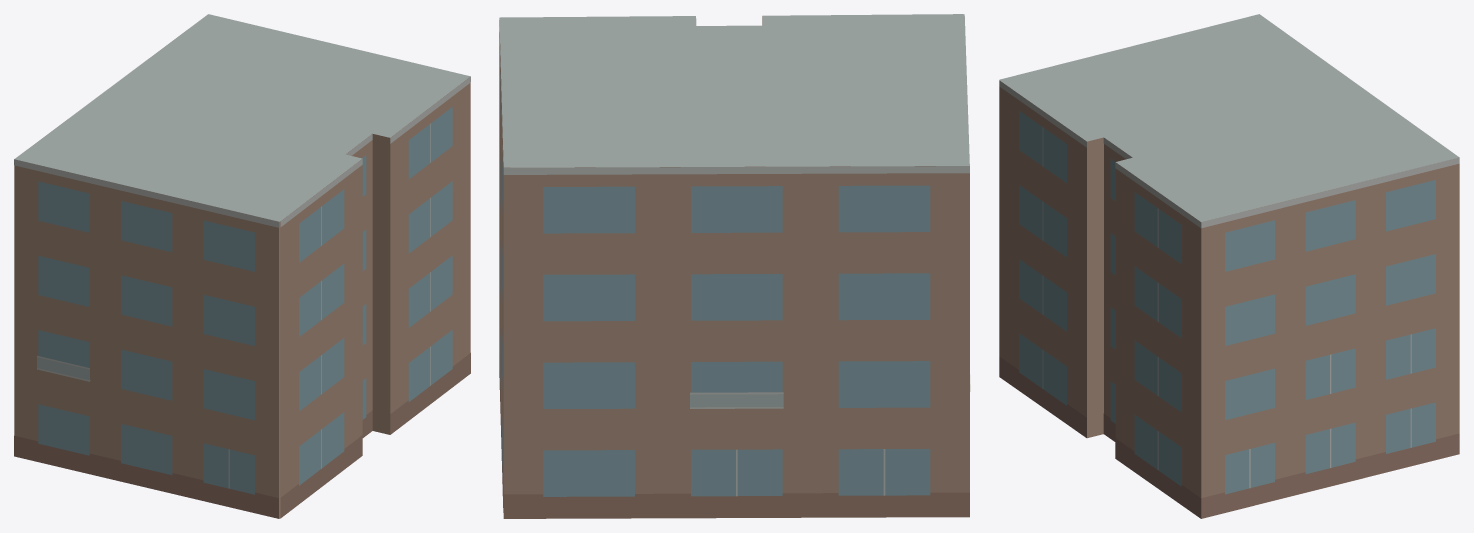
The model's file is survey-upis-32813281.glb.
3 views of the same model, side by side, from view 1: azimuth 30°, elevation 25°; view 2: azimuth 150°, elevation 25°; view 3: azimuth 270°, elevation 25° (orthographic). The views are drawn at different scales.
Visible parts, largest first — view 1: survey-upis-32813281.tmp; view 2: survey-upis-32813281.tmp; view 3: survey-upis-32813281.tmp.
Part boxes in pixels (<box>): survey-upis-32813281.tmp: <box>14,14,470,518</box>; survey-upis-32813281.tmp: <box>499,14,970,518</box>; survey-upis-32813281.tmp: <box>999,14,1459,518</box>.
Size of the model in its own units: 17.77 by 11.8 by 16.6.
